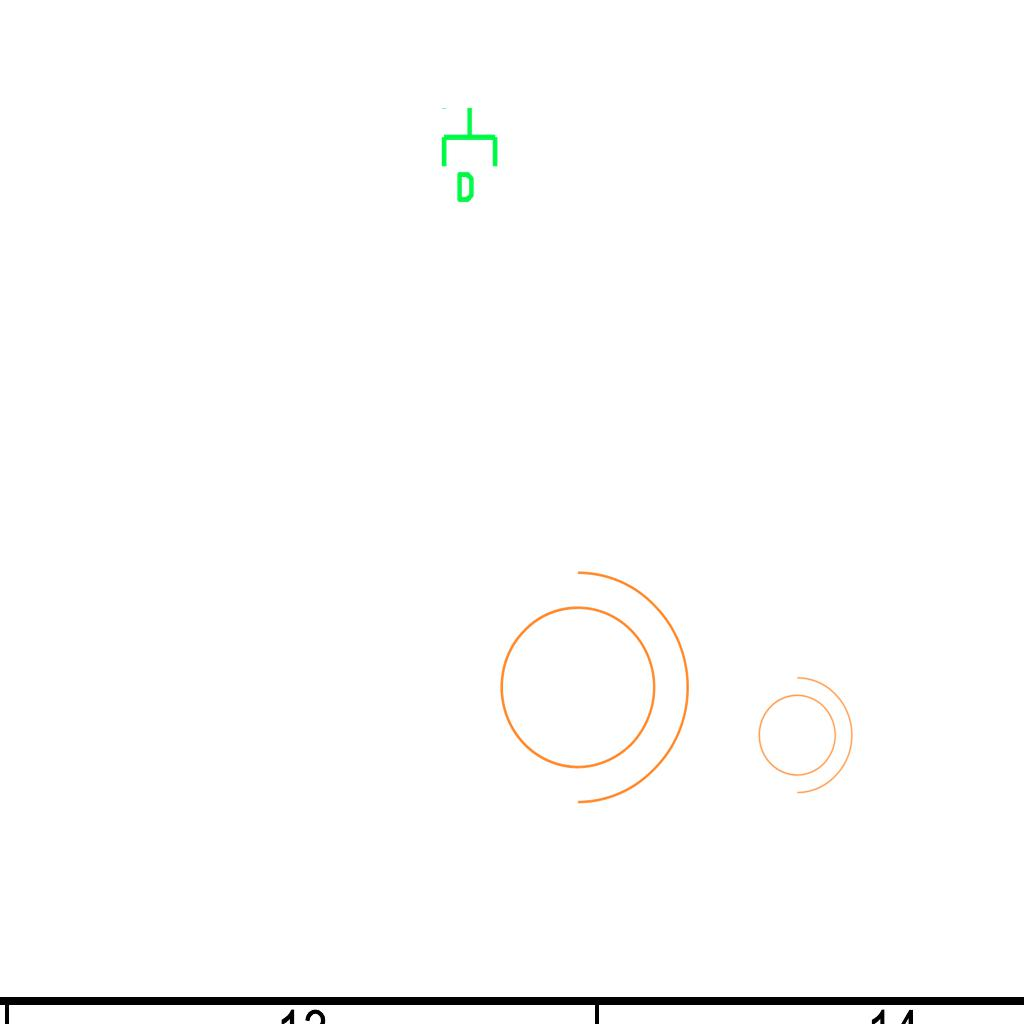Datenanschluss_einfach: (437, 105, 506, 205)
Scheinwerfer_fuer_Alarmbeleuchtung: (475, 549, 700, 813), (746, 666, 858, 798)
